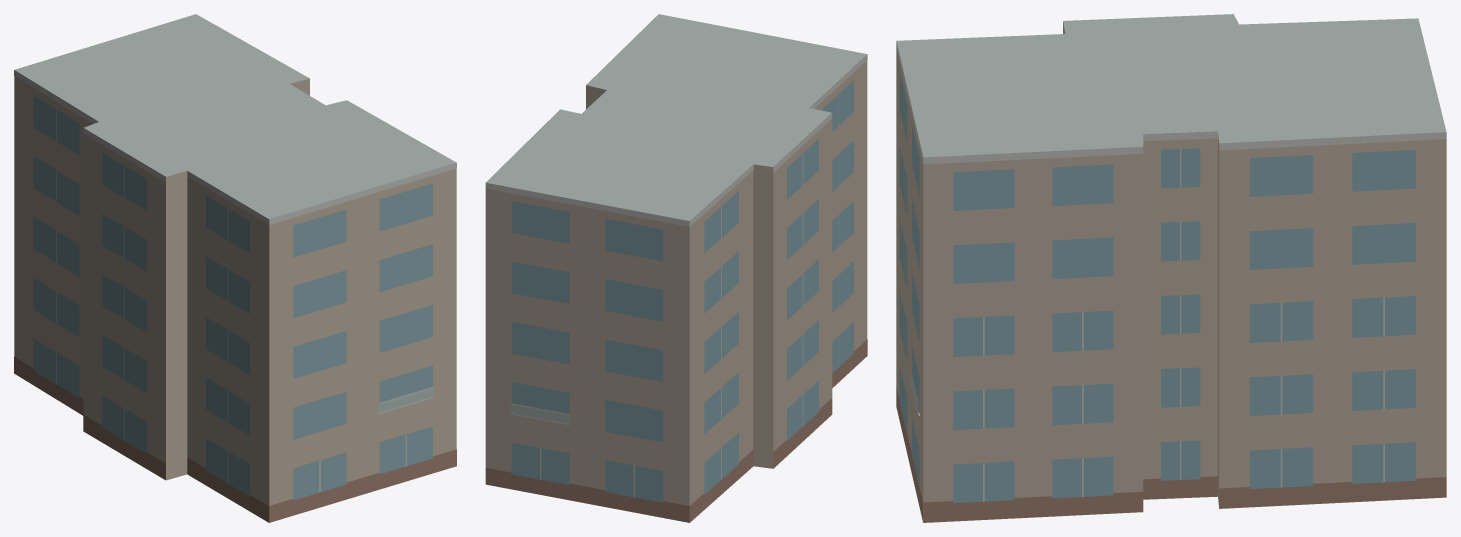
Rendered from survey-upis-32630598.glb.
The picture shows the model from 3 angles, left to right: view 1: azimuth 30°, elevation 25°; view 2: azimuth 150°, elevation 25°; view 3: azimuth 270°, elevation 25°; orthographic projection. The views are drawn at different scales.
Parts seen in each view (by area): view 1: survey-upis-32630598.tmp; view 2: survey-upis-32630598.tmp; view 3: survey-upis-32630598.tmp.
Part boxes in pixels (x1,y1,x2,y2): survey-upis-32630598.tmp: (14,14,456,522); survey-upis-32630598.tmp: (485,14,867,522); survey-upis-32630598.tmp: (896,14,1446,522).
Size of the model in its own units: 10.71 by 12.7 by 17.34.
